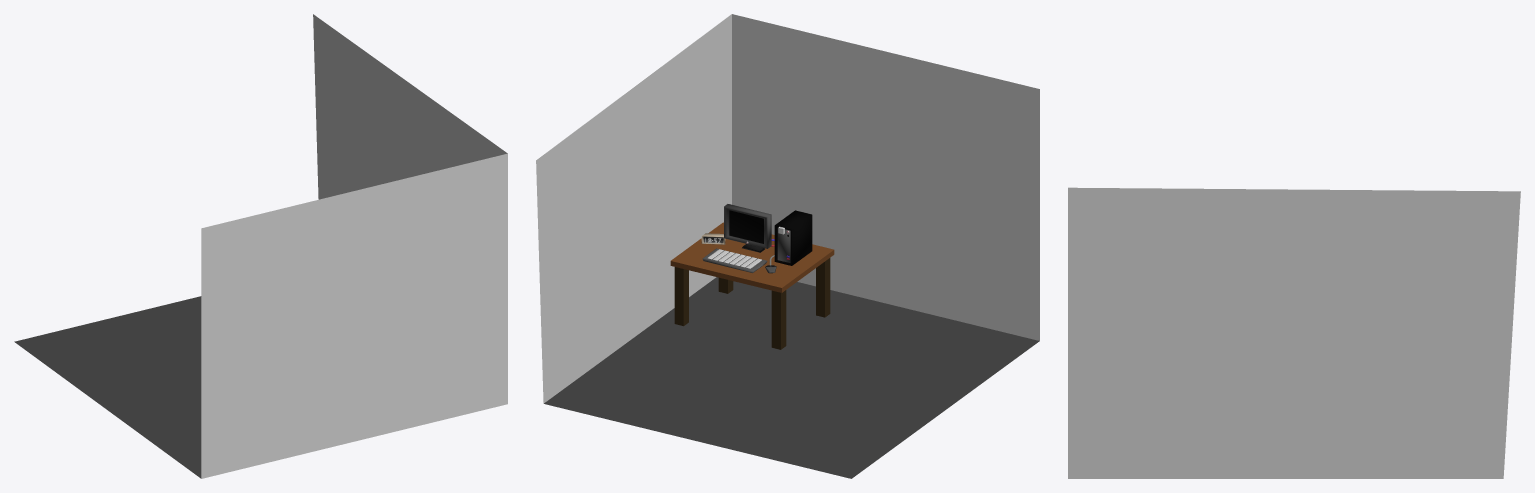
Rendered from DeskScene.glb.
The picture shows the model from 3 angles, left to right: view 1: azimuth 30°, elevation 25°; view 2: azimuth 150°, elevation 25°; view 3: azimuth 270°, elevation 25°; orthographic projection. The views are drawn at different scales.
Parts seen in each view (by area): view 1: Plane.001; view 2: Plane.001, Cube.006, Cube.010, Cube, Plane, Cube.009; view 3: Plane.001.
Part boxes in pixels (x1=…): Plane.001: x1=14, y1=14, x2=507, y2=478; Plane.001: x1=536, y1=14, x2=1039, y2=478; Cube.006: x1=670, y1=222, x2=834, y2=292; Cube.010: x1=674, y1=258, x2=830, y2=349; Cube: x1=774, y1=210, x2=812, y2=265; Plane: x1=724, y1=204, x2=771, y2=248; Cube.009: x1=702, y1=248, x2=767, y2=272; Plane.001: x1=1068, y1=187, x2=1520, y2=478.
Bounding box in the file's own units: 26.94 × 21.27 × 29.67.
